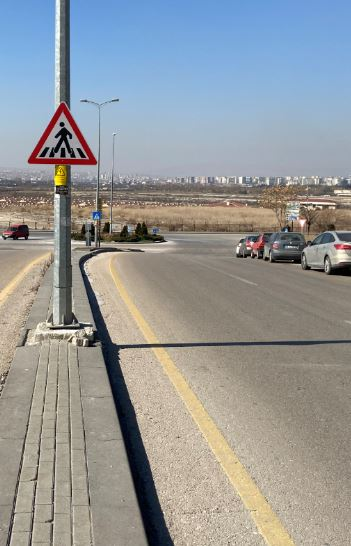Yaya Gecidi: (30, 100, 100, 166)
